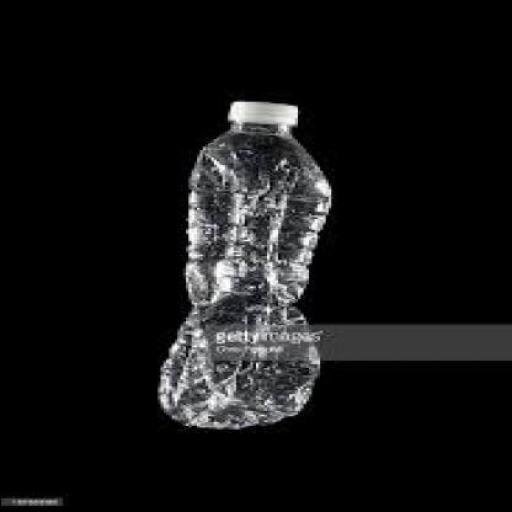plastic: (151, 94, 319, 424), (221, 99, 293, 123)
